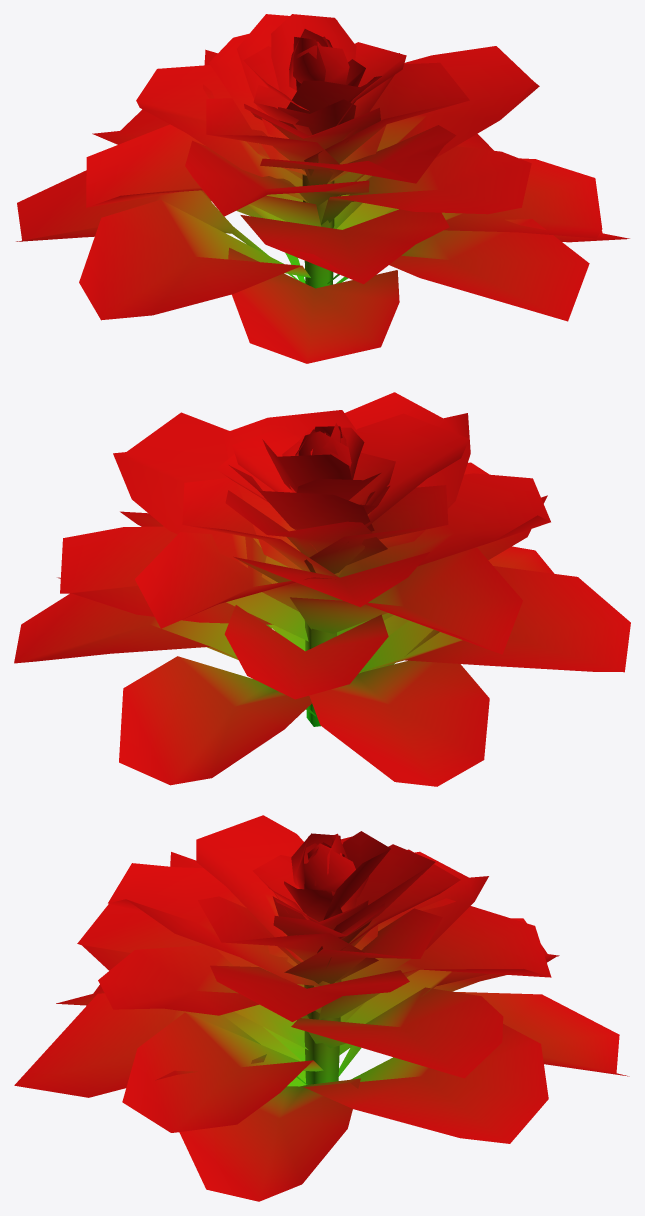
Rendered from Purple Ornamental Kale_LOD4_Var8_ugdieawja.fbx.
3 views of the same model, one above another, from view 1: azimuth 30°, elevation 25°; view 2: azimuth 150°, elevation 25°; view 3: azimuth 270°, elevation 25° (orthographic). The views are drawn at different scales.
Visible parts, largest first — view 1: _ef3b_Var8_LOD4; view 2: _ef3b_Var8_LOD4; view 3: _ef3b_Var8_LOD4.
Part boxes in pixels (x1,y1,x2,y2): _ef3b_Var8_LOD4: (16,14,629,363); _ef3b_Var8_LOD4: (14,392,630,786); _ef3b_Var8_LOD4: (14,815,629,1201).
Size of the model in its own units: 61.17 by 32.09 by 63.
